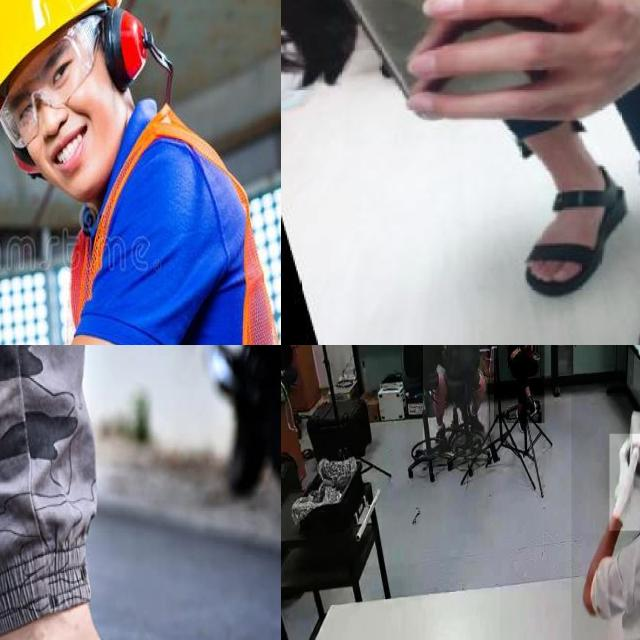Ear-protection: (100, 0, 154, 91)
Sandals: (517, 147, 629, 301)
glasses: (0, 17, 108, 139)
hand_glove: (609, 433, 640, 530)
head_helmet: (0, 0, 124, 115)
person: (0, 0, 281, 345), (571, 390, 640, 640), (423, 345, 488, 458), (494, 345, 545, 424)
vest: (68, 104, 281, 345)
